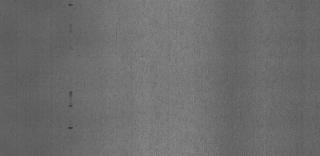oil spot: (66, 90, 74, 110), (68, 122, 74, 132), (67, 3, 73, 9)
